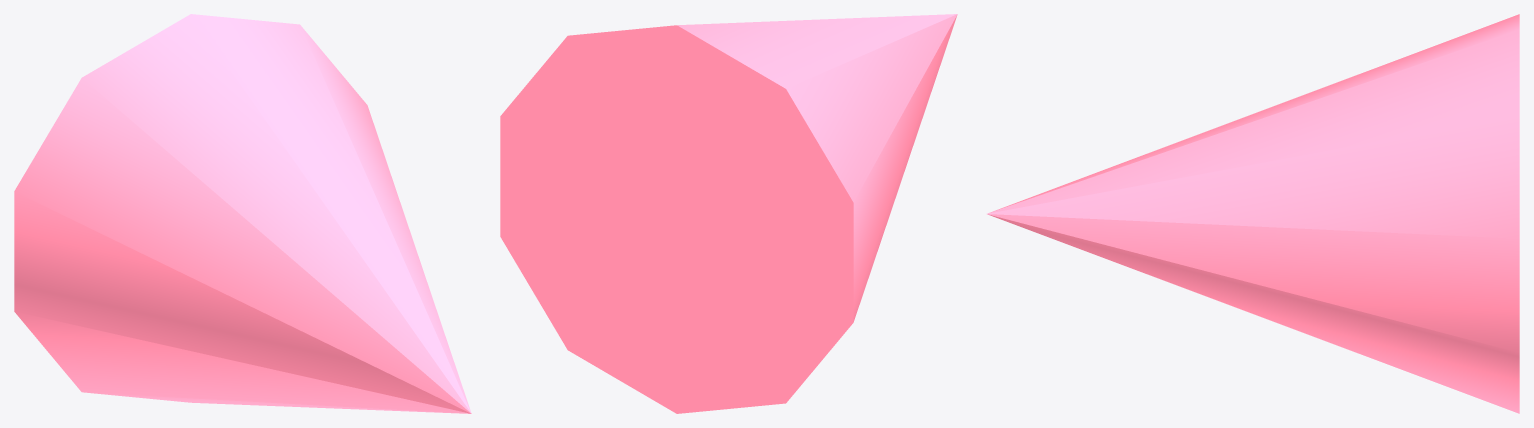
File: turbo.glb
The picture shows the model from 3 angles, left to right: view 1: azimuth 30°, elevation 25°; view 2: azimuth 150°, elevation 25°; view 3: azimuth 270°, elevation 25°; orthographic projection. The views are drawn at different scales.
Visible parts, largest first — view 1: turbo; view 2: turbo; view 3: turbo.
Part boxes in pixels (x1,y1,x2,y2): turbo: (14, 14, 471, 413); turbo: (500, 14, 957, 413); turbo: (987, 14, 1519, 413).
Size of the model in its own units: 0.7989 by 0.84 by 1.1.
